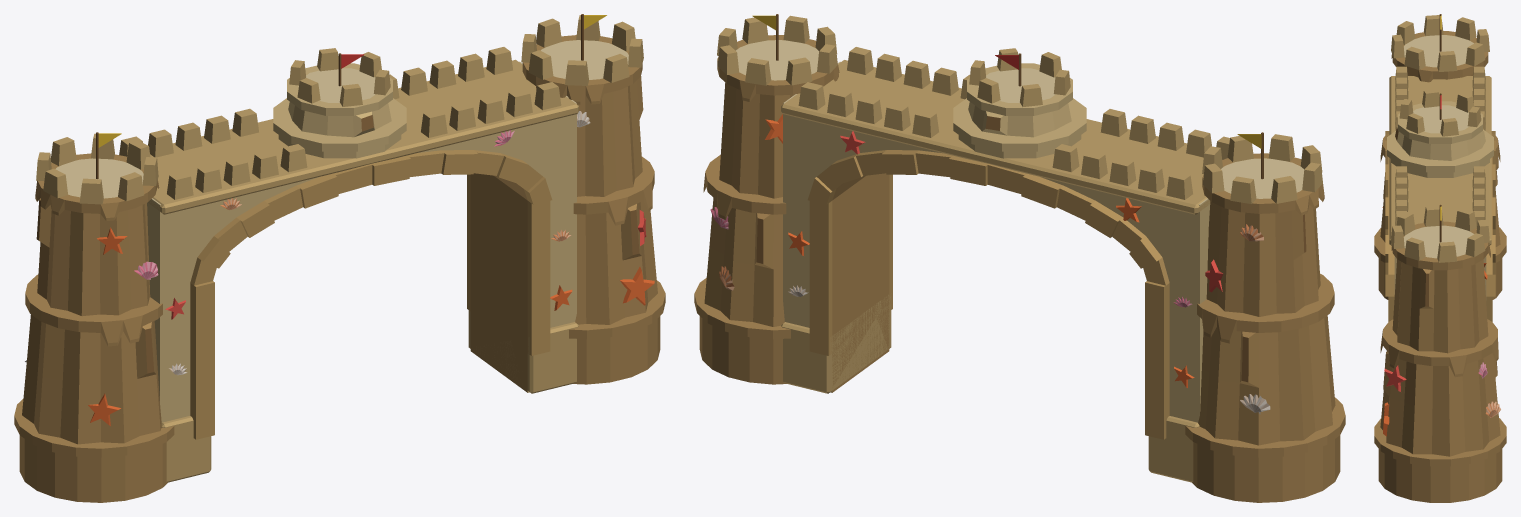
The model's file is beach-castle.glb.
3 renders of one model, left to right at view 1: azimuth 30°, elevation 25°; view 2: azimuth 150°, elevation 25°; view 3: azimuth 270°, elevation 25°, orthographic. The views are drawn at different scales.
Parts seen in each view (by area): view 1: BeachCastle; view 2: BeachCastle; view 3: BeachCastle.
Boxes of the visible parts, x1,y1,x2,y2 form: BeachCastle: (14,14,665,502); BeachCastle: (694,14,1345,502); BeachCastle: (1374,14,1506,502).
Bounding box in the file's own units: 33.11 × 18 × 7.51.
